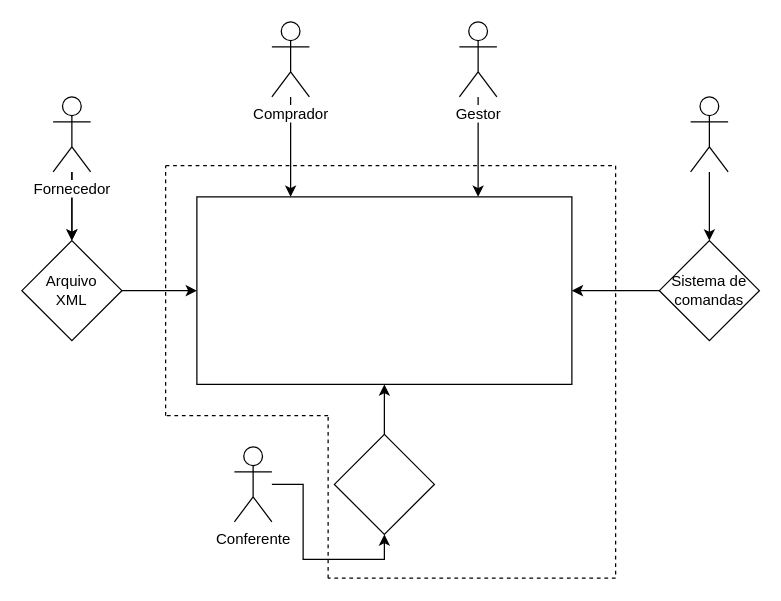
Image size: 781x601. Some labels were removed from this diagram. The shapes that lost their labels are listed below. From the top down, each one's box as (x1, y1, x2, y2) in pixels, then its label:
(689, 96, 728, 172): Atendente
(196, 196, 572, 384): Sistema de controle de estoque
(333, 433, 434, 534): Tablet
